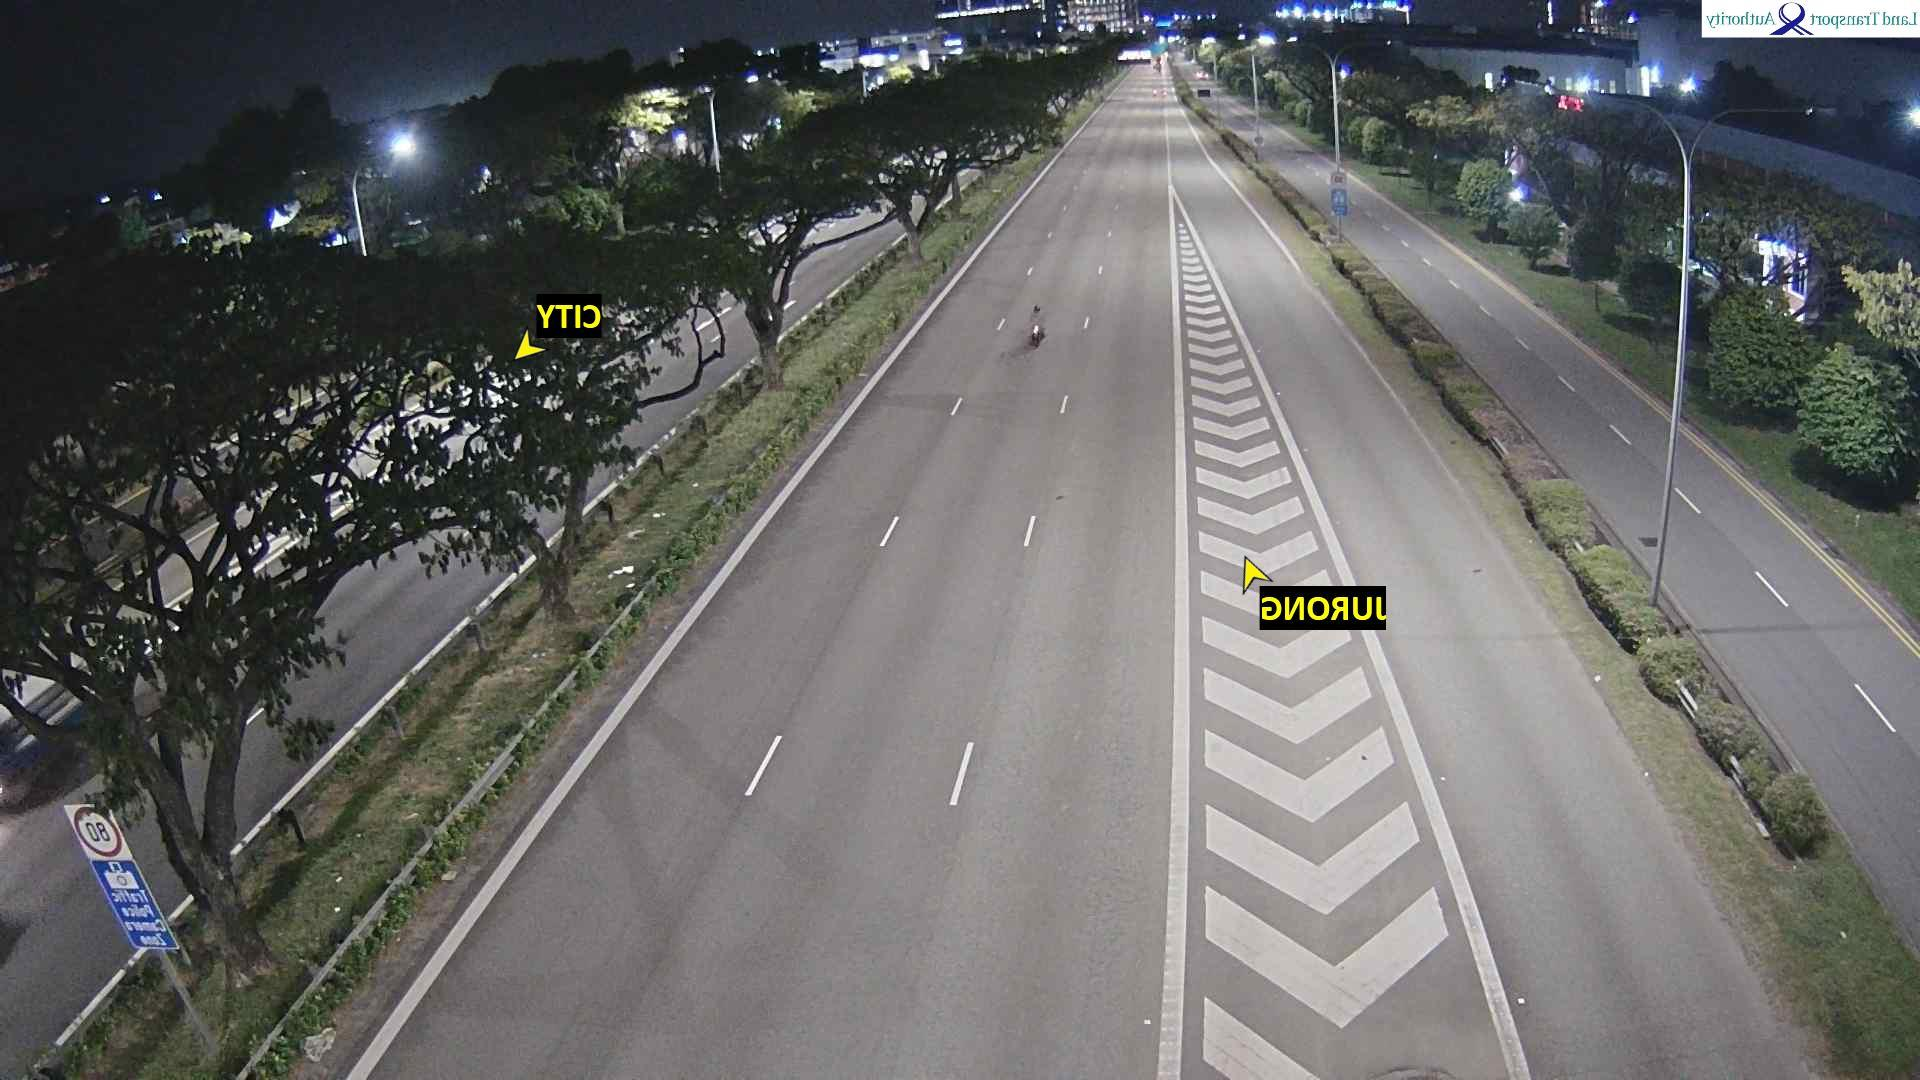motorcycle: (1023, 302, 1047, 348)
